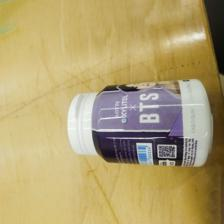Xylitol_BTS: (67, 78, 213, 169)
